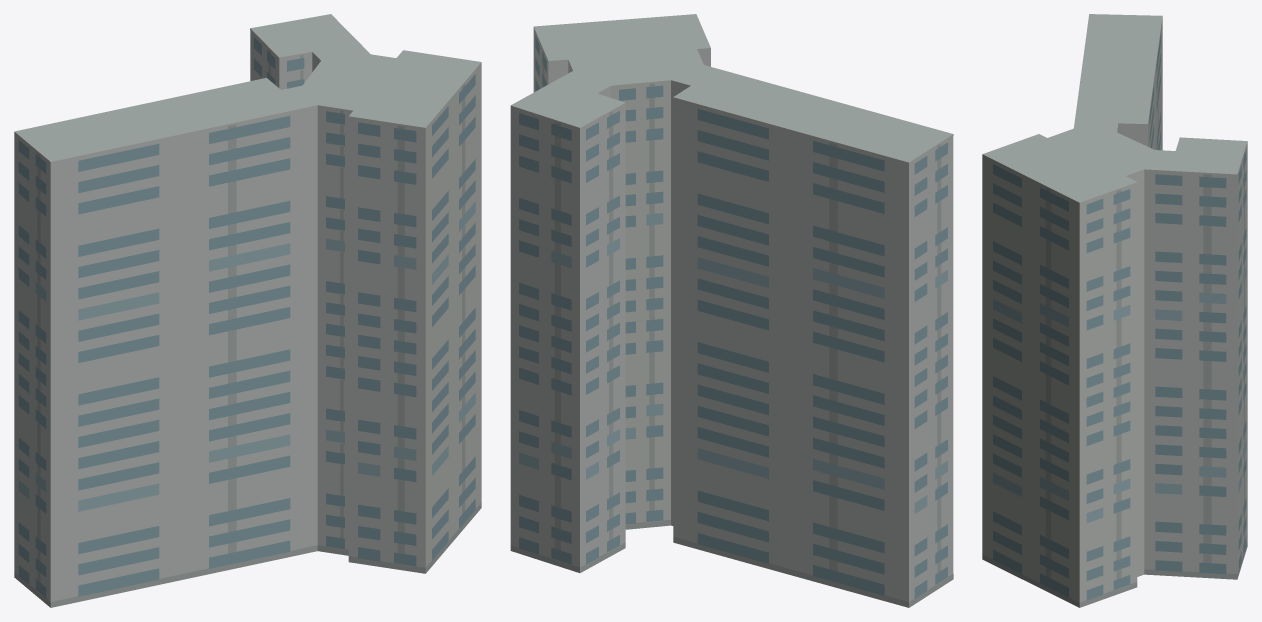
The model's file is residential-eb8e3c99-4d02-4de1-8182-665378605522.glb.
3 renders of one model, left to right at view 1: azimuth 30°, elevation 25°; view 2: azimuth 150°, elevation 25°; view 3: azimuth 270°, elevation 25°, orthographic. The views are drawn at different scales.
Parts seen in each view (by area): view 1: residential-eb8e3c99-4d02-4de1-8182-665378605522.tmp; view 2: residential-eb8e3c99-4d02-4de1-8182-665378605522.tmp; view 3: residential-eb8e3c99-4d02-4de1-8182-665378605522.tmp.
Boxes of the visible parts, x1,y1,x2,y2 form: residential-eb8e3c99-4d02-4de1-8182-665378605522.tmp: (14, 14, 481, 607); residential-eb8e3c99-4d02-4de1-8182-665378605522.tmp: (510, 14, 953, 607); residential-eb8e3c99-4d02-4de1-8182-665378605522.tmp: (982, 14, 1247, 607).
Size of the model in its own units: 59.95 by 60 by 35.61.
